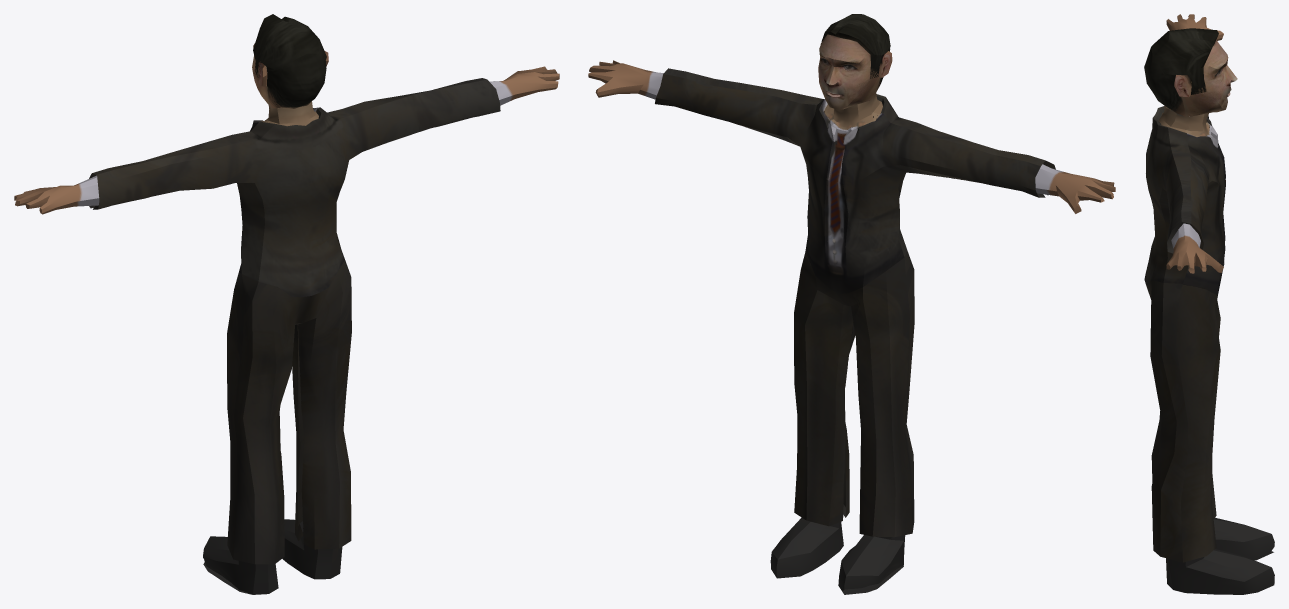
The model's file is manager.fbx.
3 renders of one model, left to right at view 1: azimuth 30°, elevation 25°; view 2: azimuth 150°, elevation 25°; view 3: azimuth 270°, elevation 25°, orthographic. The views are drawn at different scales.
Visible parts, largest first — view 1: Plane; view 2: Plane; view 3: Plane.
Part boxes in pixels (<box>): Plane: <box>14,14,559,594</box>; Plane: <box>588,14,1115,594</box>; Plane: <box>1144,14,1274,594</box>.
Size of the model in its own units: 189 by 186 by 40.83.
1 material, 1 textured.
